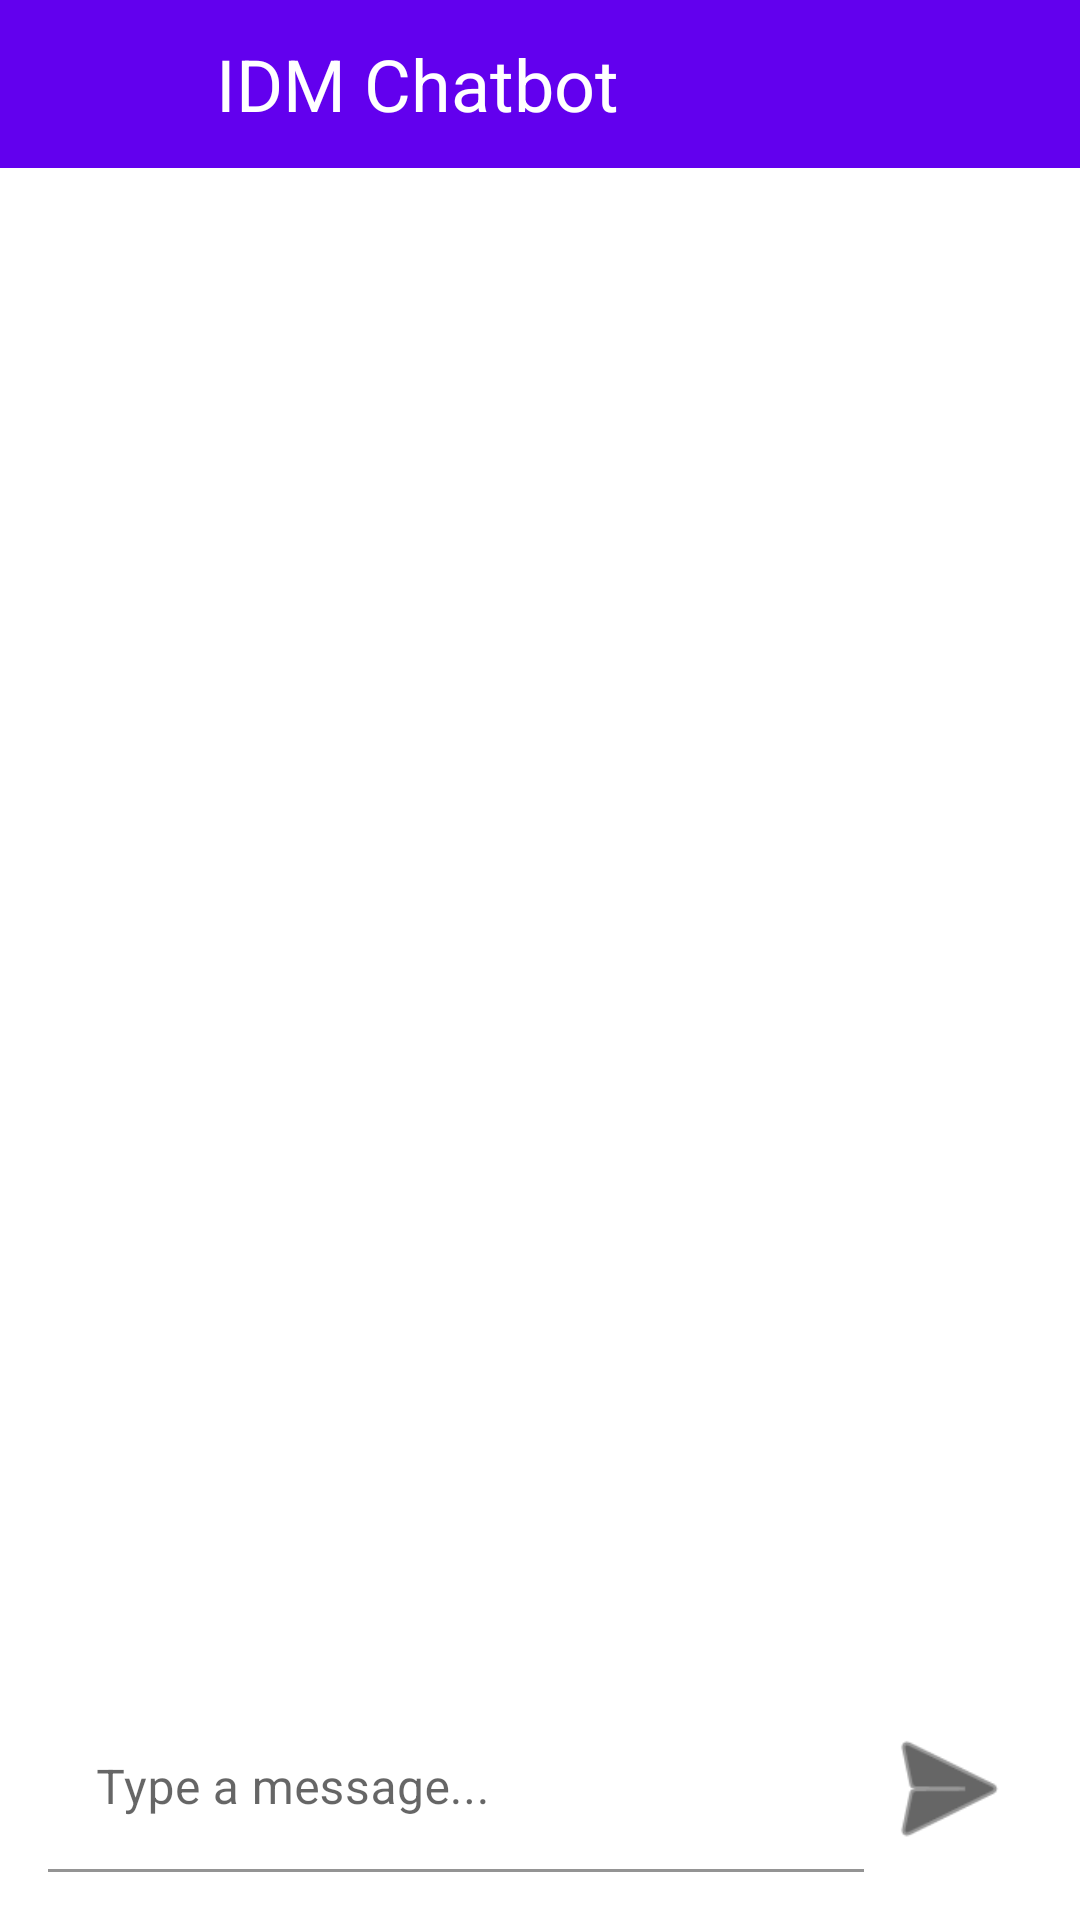

Icon click points for this 1080 × 1920 phone screenshot, format [x,y]:
Send: [949,1788]
